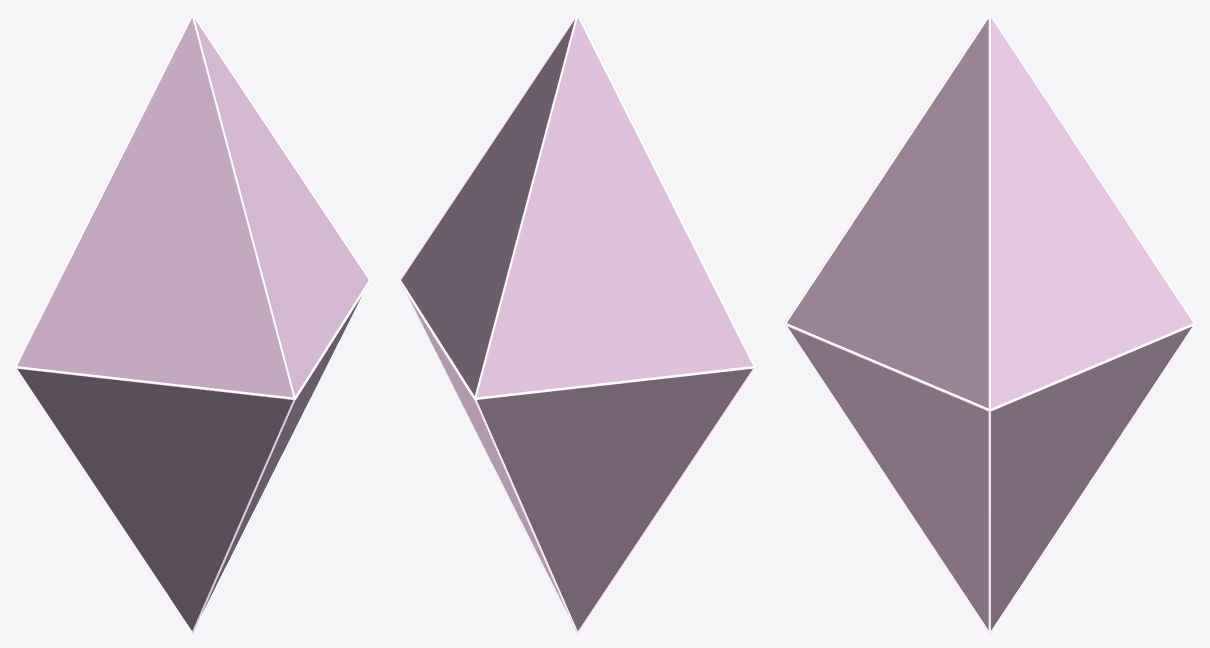
Rendered from hylia_grace.glb.
The picture shows the model from 3 angles, left to right: view 1: azimuth 30°, elevation 25°; view 2: azimuth 150°, elevation 25°; view 3: azimuth 270°, elevation 25°; orthographic projection.
Visible parts, largest first — view 1: Crystal shell, Polished crystal edge (×7); view 2: Crystal shell, Polished crystal edge (×7); view 3: Crystal shell, Polished crystal edge (×8).
Boxes of the visible parts, x1,y1,x2,y2 form: Crystal shell: (17,18,368,630); Polished crystal edge (×7): (14,14,370,633); Crystal shell: (401,17,752,630); Polished crystal edge (×7): (400,14,755,633); Crystal shell: (787,18,1192,630); Polished crystal edge (×8): (784,14,1195,633).
Size of the model in its own units: 44.58 by 74.09 by 44.58.
